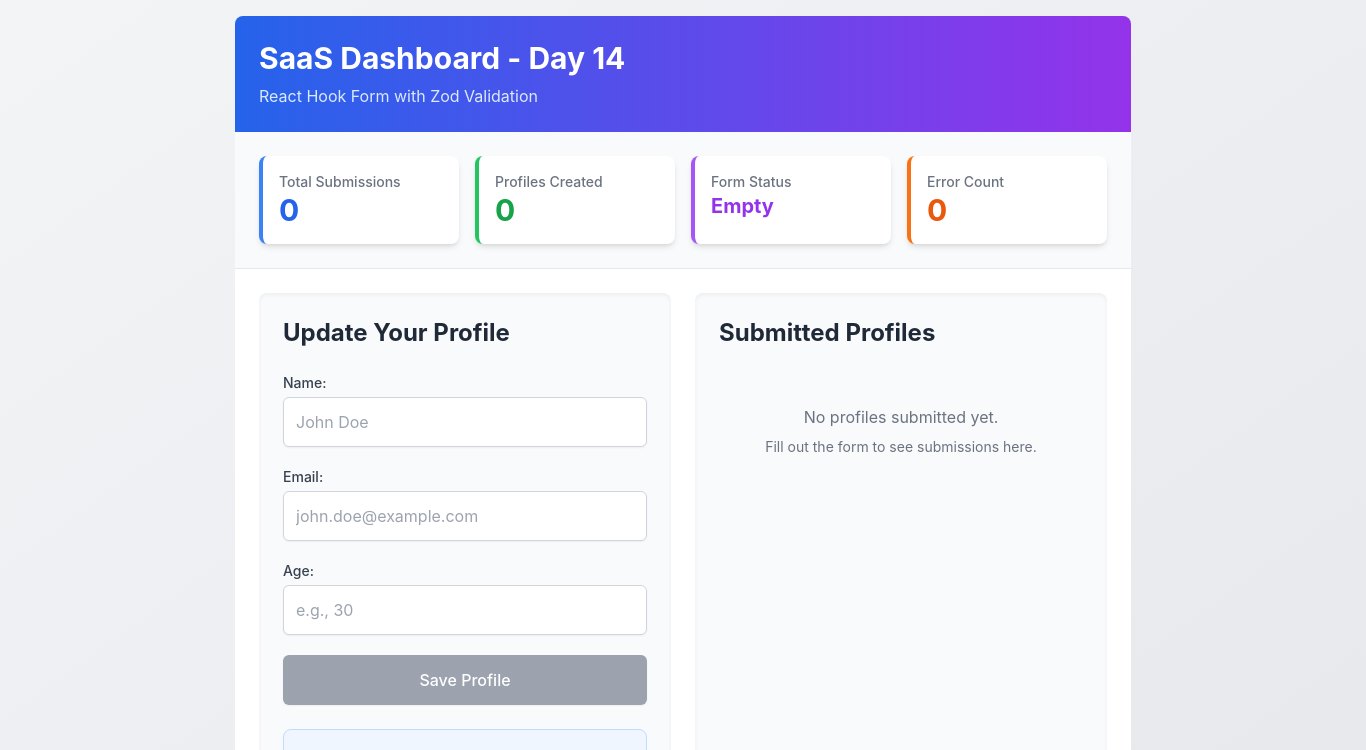
SaaS Dashboard - Day 14 › shows error for invalid email
Type "invalid-email" into the field labelled "Email:" at (465, 516), box [283, 491, 647, 541]
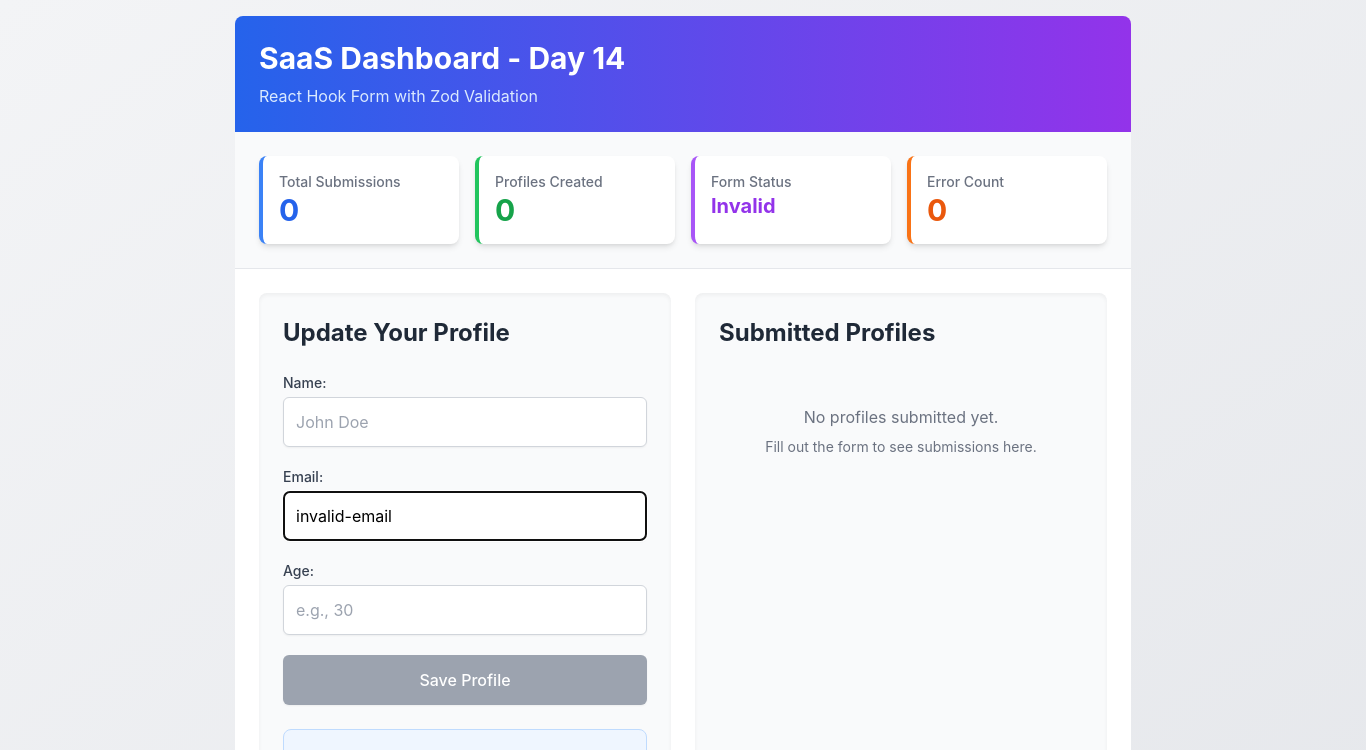
Press Tab
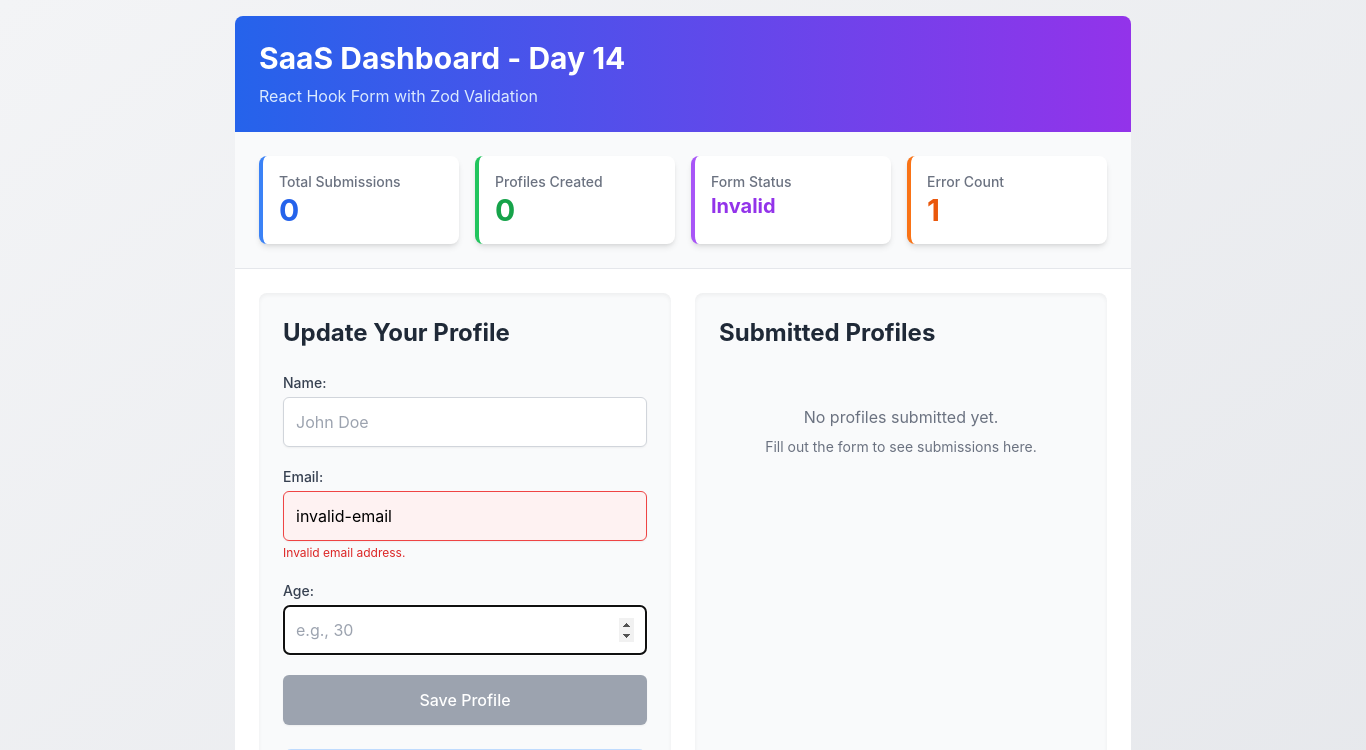
Check: the text with test id "email-error" shows "Invalid email address", box [283, 545, 405, 560]
